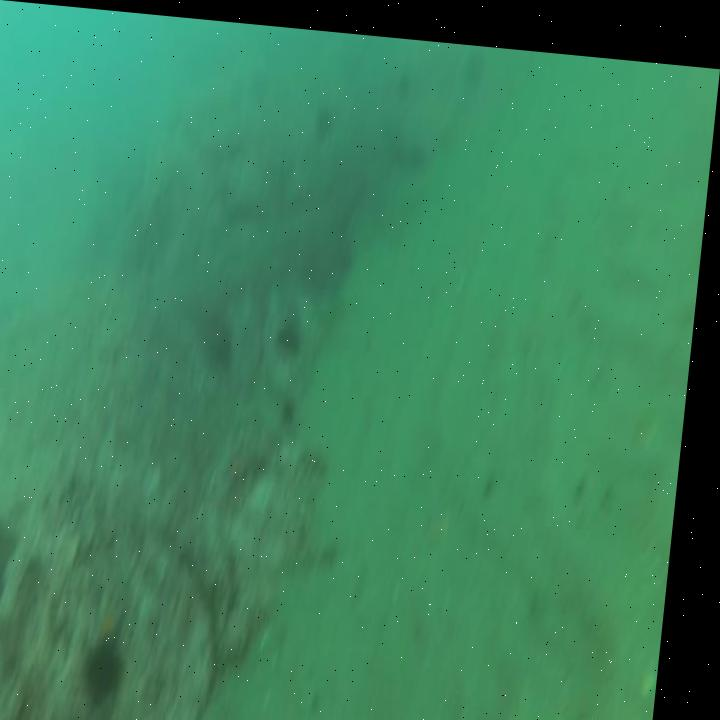echinus: (92, 625, 143, 706)
starfish: (105, 593, 141, 645)
